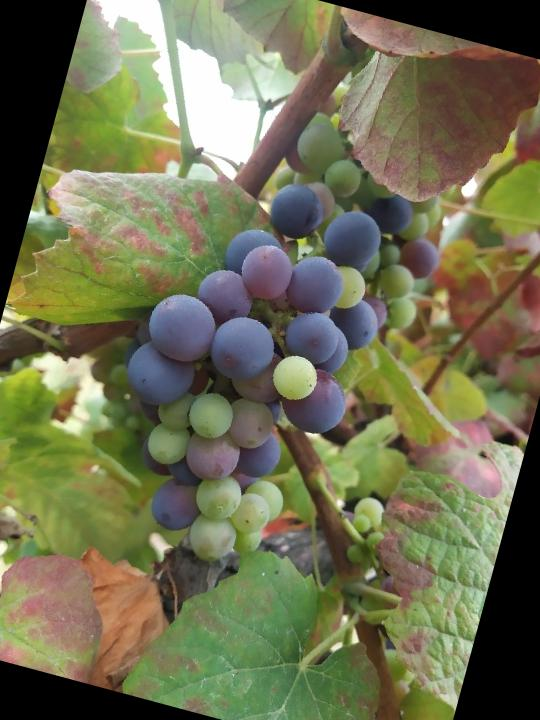grape: (82, 151, 413, 593)
